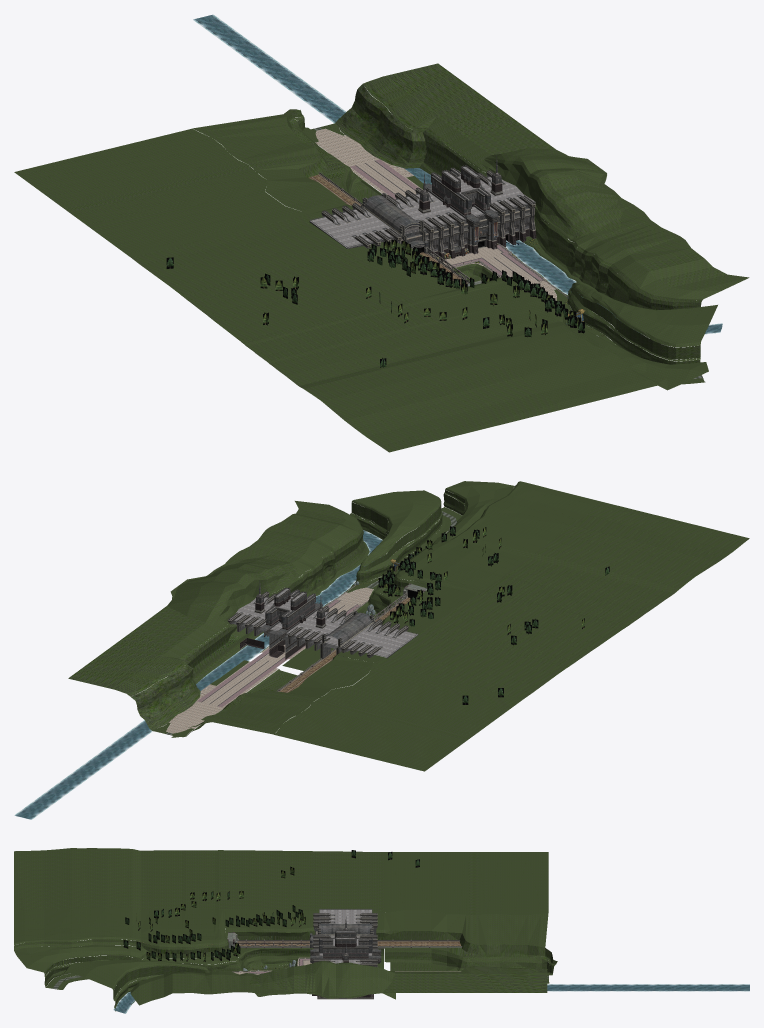
The model's file is Schwarzdrach.glb.
The picture shows the model from 3 angles, top to bottom: view 1: azimuth 30°, elevation 25°; view 2: azimuth 150°, elevation 25°; view 3: azimuth 270°, elevation 25°; orthographic projection. The views are drawn at different scales.
Parts seen in each view (by area): view 1: polySurface65991, polySurface66236, tree, river, polySurface65998, polySurface66234, polySurface65537, polySurface65801, polySurface66235, polySurface66206, polySurface65889; view 2: polySurface65991, polySurface66236, river, tree, polySurface65998, polySurface65537, polySurface66206, polySurface65801, polySurface66235, polySurface66234, polySurface65889, polySurface5416; view 3: polySurface65991, polySurface66236, tree, river, polySurface65998, polySurface65790, polySurface65801, polySurface5416, polySurface66235, polySurface66206, polySurface66234, polySurface65889.
Boxes of the visible parts, bbox=[...] form: polySurface65991: bbox=[14, 63, 749, 452]; polySurface66236: bbox=[481, 148, 623, 239]; tree: bbox=[166, 239, 584, 367]; river: bbox=[193, 14, 722, 334]; polySurface65998: bbox=[309, 177, 535, 257]; polySurface66234: bbox=[352, 195, 536, 261]; polySurface65537: bbox=[350, 159, 543, 282]; polySurface65801: bbox=[432, 166, 489, 215]; polySurface66235: bbox=[362, 193, 423, 238]; polySurface66206: bbox=[321, 170, 505, 225]; polySurface65889: bbox=[423, 184, 498, 254]; polySurface65991: bbox=[68, 481, 749, 771]; polySurface66236: bbox=[167, 554, 299, 625]; river: bbox=[14, 530, 382, 819]; tree: bbox=[378, 526, 609, 704]; polySurface65998: bbox=[233, 597, 418, 658]; polySurface65537: bbox=[197, 599, 359, 707]; polySurface66206: bbox=[227, 612, 382, 657]; polySurface65801: bbox=[266, 588, 315, 629]; polySurface66235: bbox=[322, 611, 373, 649]; polySurface66234: bbox=[253, 591, 408, 638]; polySurface65889: bbox=[259, 603, 322, 659]; polySurface5416: bbox=[279, 597, 410, 692]; polySurface65991: bbox=[14, 848, 557, 1011]; polySurface66236: bbox=[249, 961, 395, 999]; tree: bbox=[123, 850, 419, 961]; river: bbox=[113, 984, 749, 1013]; polySurface65998: bbox=[316, 909, 373, 999]; polySurface65790: bbox=[237, 939, 462, 948]; polySurface65801: bbox=[323, 930, 368, 958]; polySurface5416: bbox=[139, 941, 460, 945]; polySurface66235: bbox=[318, 921, 373, 935]; polySurface66206: bbox=[355, 913, 377, 967]; polySurface66234: bbox=[312, 913, 335, 995]; polySurface65889: bbox=[310, 949, 381, 963].
Bounding box in the file's own units: 603 × 100 × 1204.
38 materials, 38 textured.
